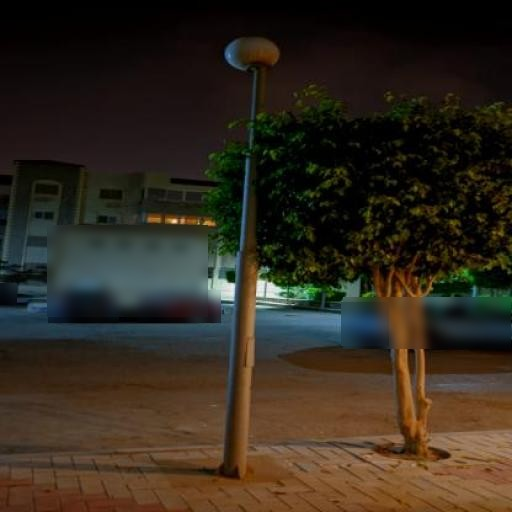apagada: (225, 35, 281, 72)
